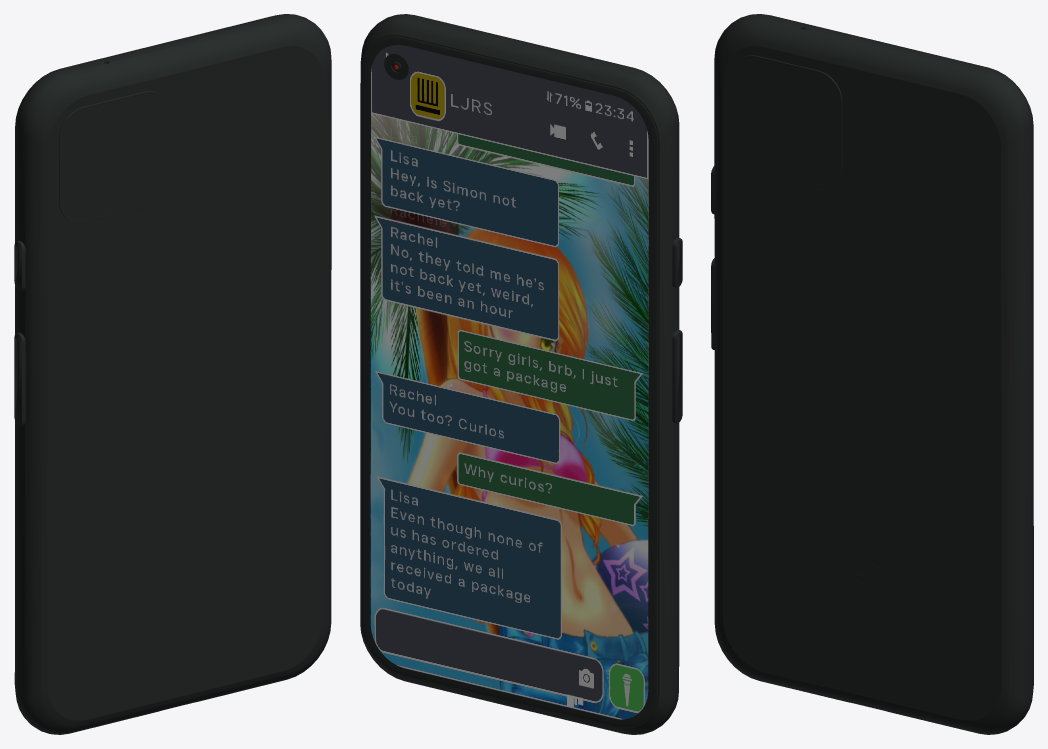
Rendered from Smartphone.fbx.
3 views of the same model, side by side, from view 1: azimuth 30°, elevation 25°; view 2: azimuth 150°, elevation 25°; view 3: azimuth 330°, elevation 25° (orthographic).
Parts seen in each view (by area): view 1: Smartphone.001; view 2: Smartphone.001; view 3: Smartphone.001.
Boxes of the visible parts, x1,y1,x2,y2 form: Smartphone.001: (14, 14, 331, 734); Smartphone.001: (360, 14, 682, 734); Smartphone.001: (711, 14, 1033, 734).
Size of the model in its own units: 76.3 by 154 by 10.76.
